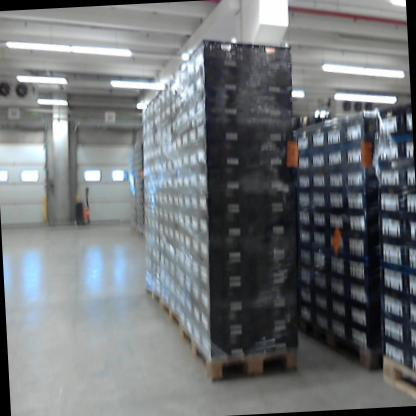pallet: (179, 317, 301, 380), (291, 304, 379, 376), (376, 345, 416, 405), (161, 300, 182, 332), (142, 284, 163, 307)
pallet_truck: (66, 179, 97, 229)
